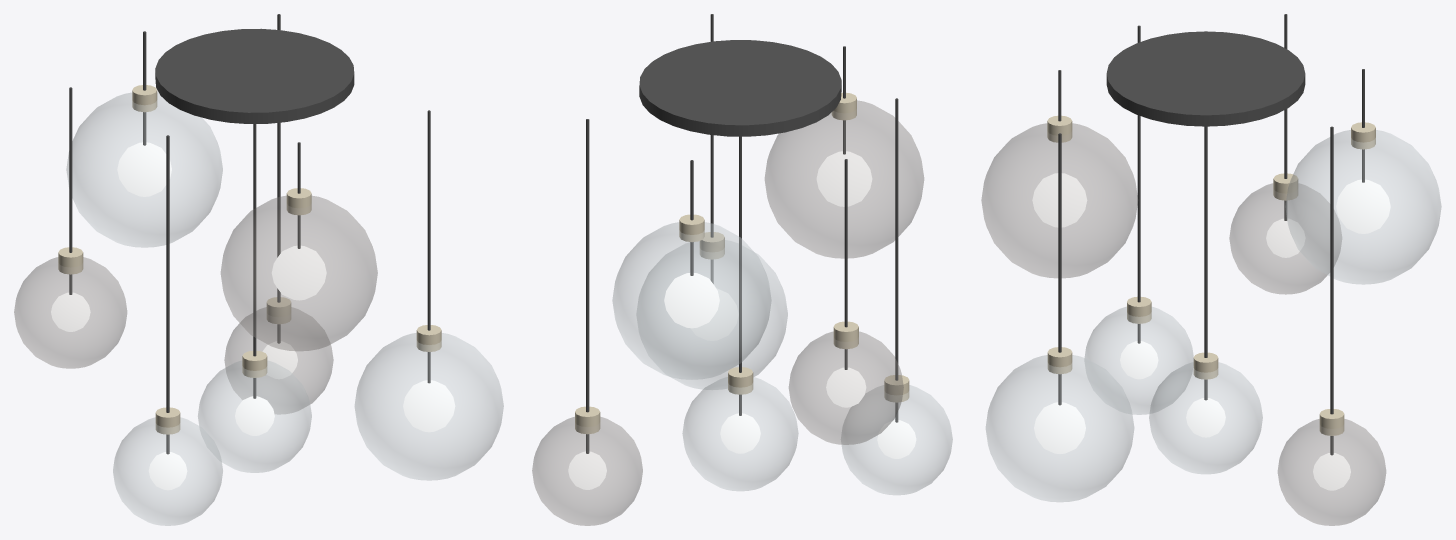
The model's file is it_pendant_cluster.glb.
3 views of the same model, side by side, from view 1: azimuth 30°, elevation 25°; view 2: azimuth 150°, elevation 25°; view 3: azimuth 270°, elevation 25° (orthographic).
Visible parts, largest first — view 1: globe5, globe2, globe6, canopy, globe0, globe3, globe4, globe1, bulb5, bulb2, bulb6, bulb0 (+15 smaller); view 2: globe2, globe5, canopy, globe6, globe0, globe3, globe1, globe4, bulb2, bulb5, bulb0, bulb3 (+15 smaller); view 3: globe5, globe2, globe6, canopy, globe0, globe4, globe3, globe1, bulb2, bulb5, bulb6, bulb0 (+14 smaller).
Part boxes in pixels (left/top/right/bottom): globe5: left=221, top=196, right=377, bottom=350; globe2: left=66, top=93, right=222, bottom=247; globe6: left=354, top=333, right=503, bottom=480; canopy: left=155, top=28, right=354, bottom=123; globe0: left=198, top=361, right=311, bottom=472; globe3: left=14, top=257, right=126, bottom=368; globe4: left=113, top=417, right=222, bottom=525; globe1: left=224, top=307, right=333, bottom=414; bulb5: left=271, top=245, right=326, bottom=300; bulb2: left=117, top=142, right=171, bottom=196; bulb6: left=403, top=380, right=455, bottom=432; bulb0: left=235, top=396, right=274, bottom=435; globe2: left=612, top=222, right=771, bottom=379; globe5: left=765, top=100, right=923, bottom=258; canopy: left=639, top=40, right=841, bottom=136; globe6: left=636, top=240, right=787, bottom=389; globe0: left=682, top=377, right=798, bottom=490; globe3: left=789, top=331, right=903, bottom=444; globe1: left=532, top=417, right=642, bottom=525; globe4: left=841, top=385, right=952, bottom=494; bulb2: left=664, top=273, right=719, bottom=328; bulb5: left=816, top=151, right=872, bottom=206; bulb0: left=720, top=413, right=760, bottom=453; bulb3: left=826, top=367, right=866, bottom=407; globe5: left=981, top=123, right=1137, bottom=277; globe2: left=1285, top=130, right=1441, bottom=284; globe6: left=986, top=355, right=1134, bottom=501; canopy: left=1106, top=31, right=1305, bottom=126; globe0: left=1149, top=362, right=1262, bottom=473; globe4: left=1084, top=307, right=1193, bottom=414; globe3: left=1229, top=183, right=1341, bottom=294; globe1: left=1278, top=419, right=1385, bottom=525; bulb2: left=1336, top=179, right=1390, bottom=233; bulb5: left=1032, top=173, right=1087, bottom=227; bulb6: left=1034, top=402, right=1085, bottom=453; bulb0: left=1186, top=398, right=1225, bottom=437.
Bounding box in the file's own units: 0.6657 × 0.7201 × 0.7413.
